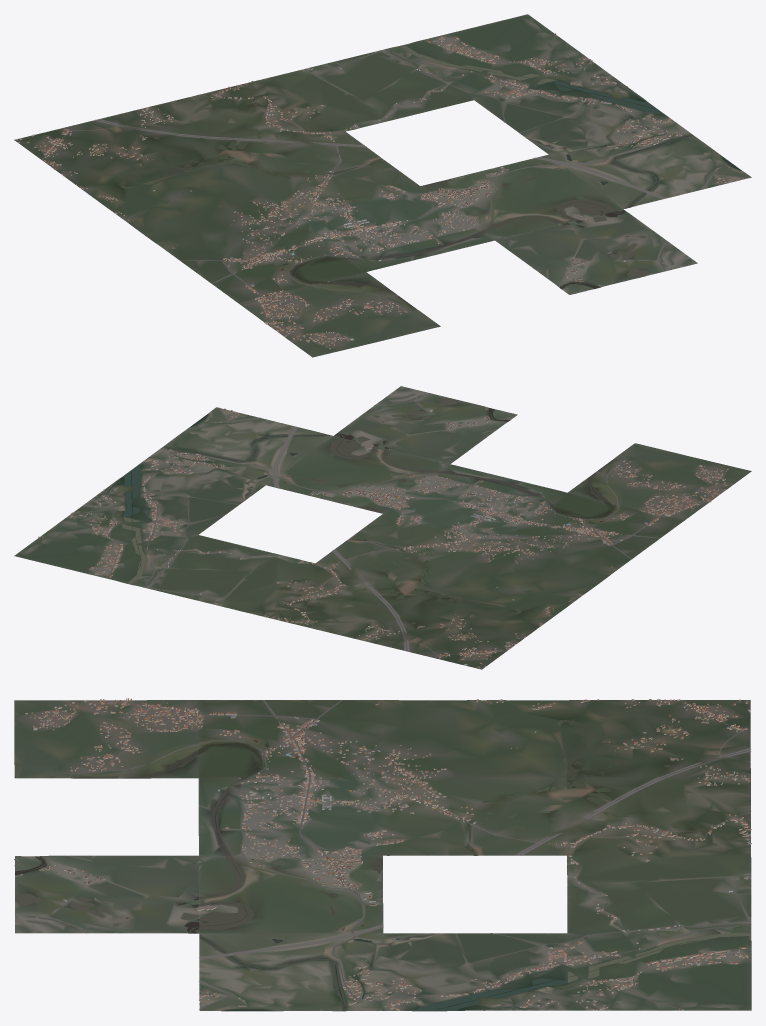
3 renders of one model, top to bottom at view 1: azimuth 30°, elevation 25°; view 2: azimuth 150°, elevation 25°; view 3: azimuth 270°, elevation 25°, orthographic. The views are drawn at different scales.
Visible parts, largest first — view 1: ground, buildings, water, roads; view 2: ground, buildings, water, roads; view 3: ground, buildings, water, roads.
Boxes of the visible parts, bbox=[...] form: ground: bbox=[14, 14, 751, 357]; buildings: bbox=[16, 33, 742, 349]; water: bbox=[97, 43, 741, 326]; roads: bbox=[42, 33, 749, 326]; ground: bbox=[14, 386, 751, 669]; buildings: bbox=[38, 408, 728, 668]; water: bbox=[121, 397, 636, 641]; roads: bbox=[38, 393, 712, 657]; ground: bbox=[14, 700, 751, 1011]; buildings: bbox=[19, 698, 751, 1010]; water: bbox=[14, 719, 751, 1011]; roads: bbox=[14, 700, 751, 1010].
Size of the model in its own units: 5604 by 33.62 by 5620.
